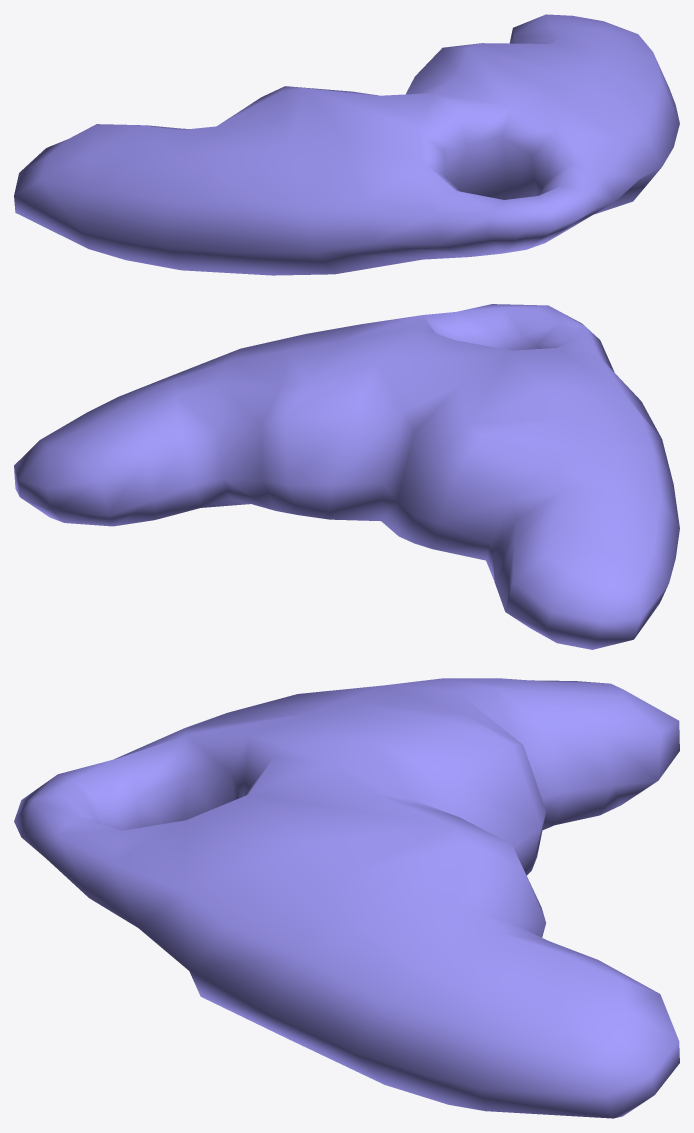
The model's file is SM_tail.FBX.
3 renders of one model, top to bottom at view 1: azimuth 30°, elevation 25°; view 2: azimuth 150°, elevation 25°; view 3: azimuth 270°, elevation 25°, orthographic. The views are drawn at different scales.
Visible parts, largest first — view 1: SM_tail; view 2: SM_tail; view 3: SM_tail.
Part boxes in pixels (box(x1,y1,x2,y2)): SM_tail: box(14, 14, 679, 275); SM_tail: box(14, 304, 679, 649); SM_tail: box(14, 678, 679, 1118).
Bounding box in the file's own units: 113 × 80.06 × 26.05.
